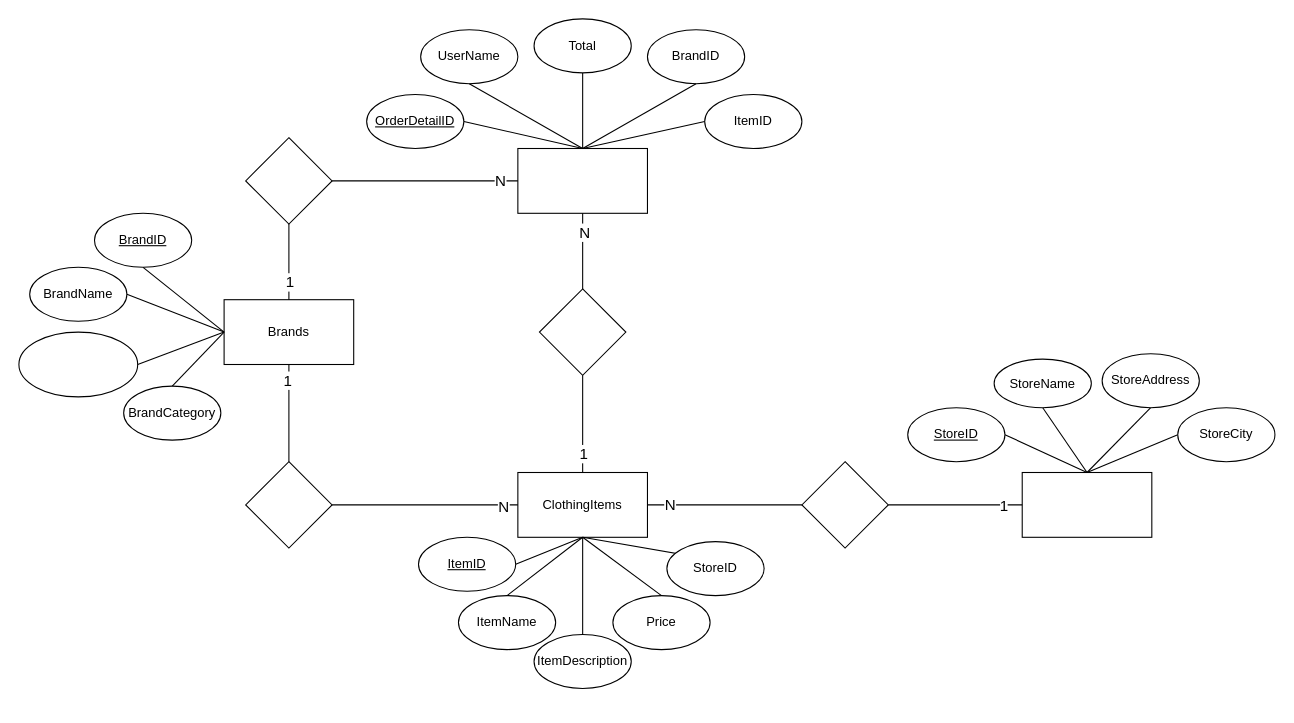
The diagram is 1294 pixels wide and 723 high, and some of its shapes have lost their labels. The shapes that lost their labels are listed below. From the top down, each one's box as (x1, y1, x2, y2) in pixels, then its label:
(245, 137, 332, 224): Gets
(517, 147, 647, 213): OrderDetails
(538, 288, 626, 375): Includes
(18, 331, 138, 397): BrandDescription
(245, 461, 332, 548): Has
(801, 461, 888, 548): Sells
(1021, 471, 1152, 537): Stores
